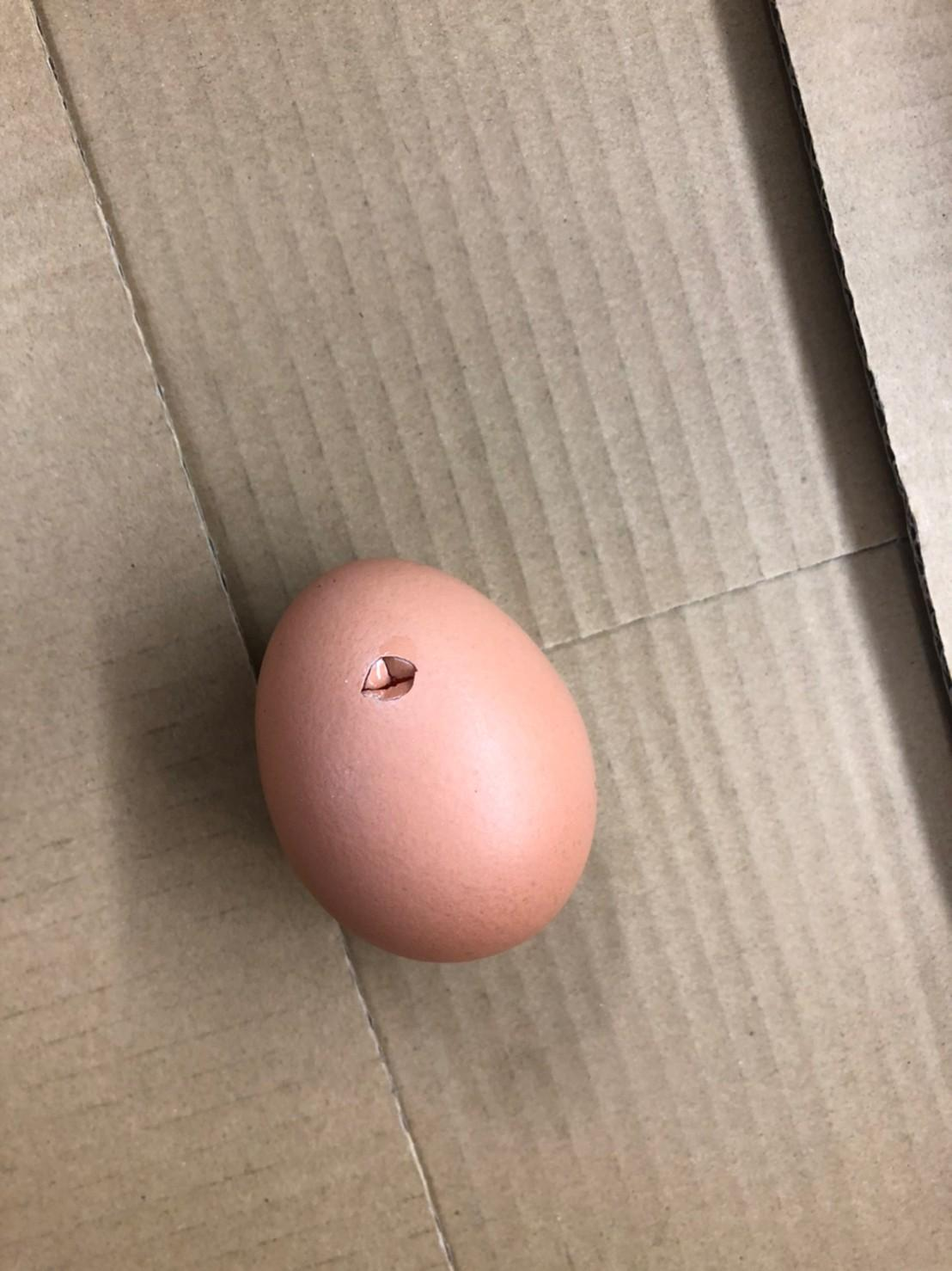egg: (245, 550, 611, 966)
